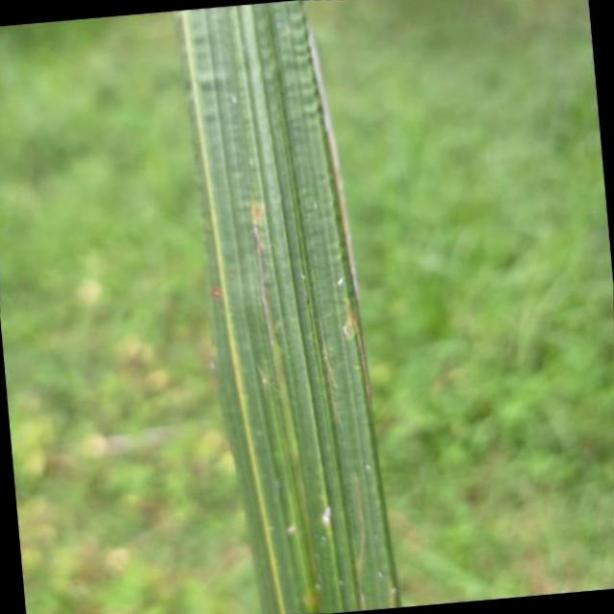Boron: (186, 0, 402, 614)
